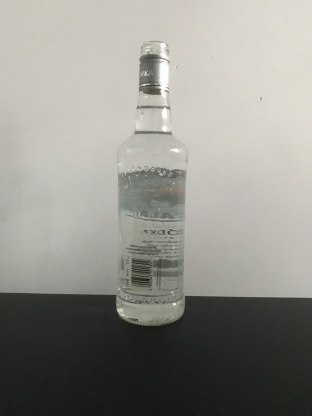nakretka: (137, 38, 172, 96)
